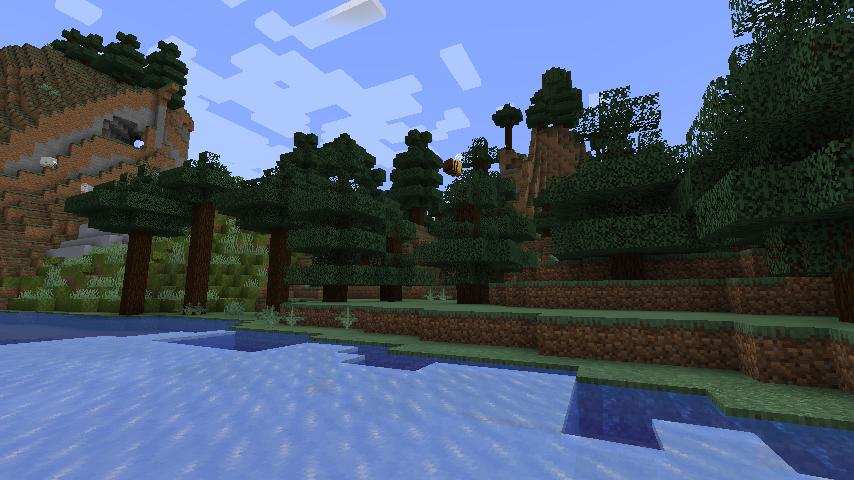bee: (440, 153, 464, 177)
